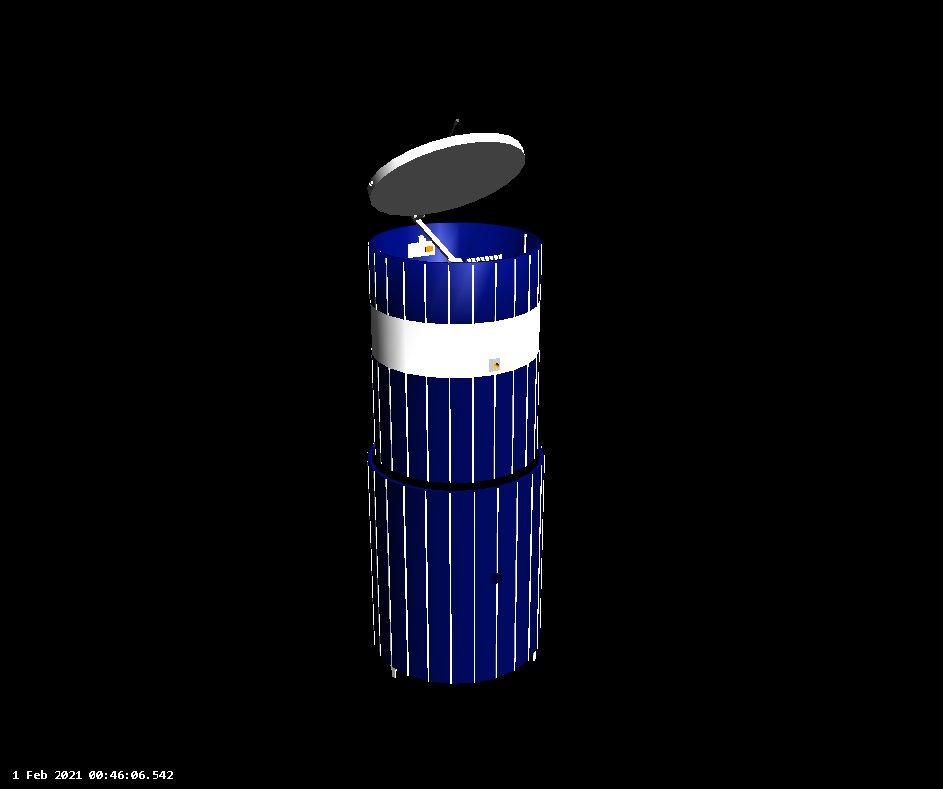antenna: (361, 127, 533, 223)
body: (352, 114, 551, 687)
